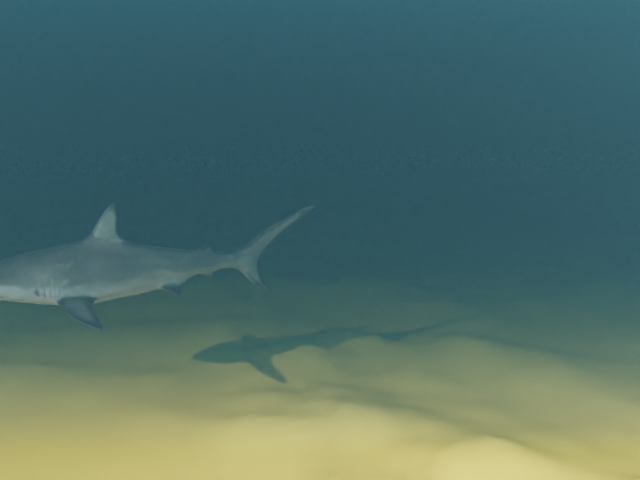Carribean Shark.001: (0, 203, 314, 329)
